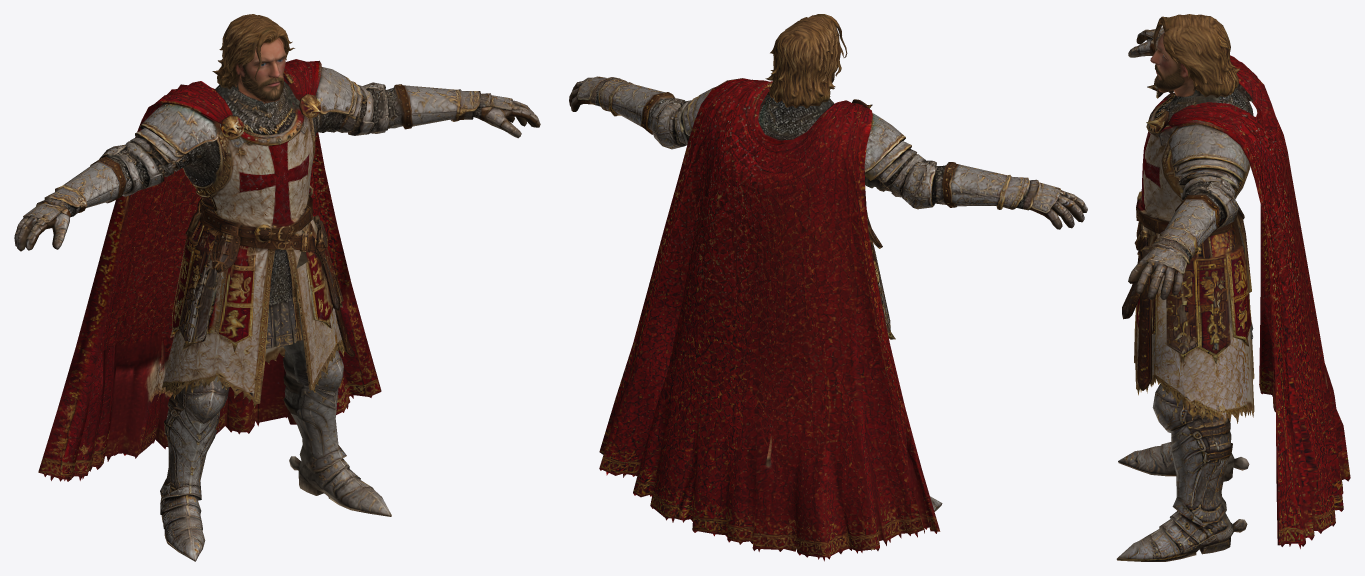
File: medieval+knight+3d+model.fbx
3 views of the same model, side by side, from view 1: azimuth 30°, elevation 25°; view 2: azimuth 150°, elevation 25°; view 3: azimuth 270°, elevation 25° (orthographic).
Parts seen in each view (by area): view 1: bbbf3832_4bc8_4b10_b644_365c3a6e3f17; view 2: bbbf3832_4bc8_4b10_b644_365c3a6e3f17; view 3: bbbf3832_4bc8_4b10_b644_365c3a6e3f17.
Boxes of the visible parts, x1,y1,x2,y2 form: bbbf3832_4bc8_4b10_b644_365c3a6e3f17: (14, 14, 540, 561); bbbf3832_4bc8_4b10_b644_365c3a6e3f17: (569, 14, 1087, 561); bbbf3832_4bc8_4b10_b644_365c3a6e3f17: (1116, 14, 1350, 561).
Bounding box in the file's own units: 0.9995 × 0.9126 × 0.3901.
1 material, 1 textured.
